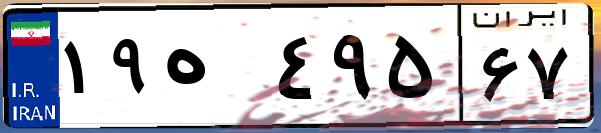1: (57, 26, 110, 100)
4: (270, 28, 330, 110)
5: (385, 28, 445, 110)
6: (475, 38, 525, 113)
7: (525, 38, 570, 115)
9: (330, 28, 385, 110), (110, 28, 158, 98)
ه: (158, 20, 270, 120)
